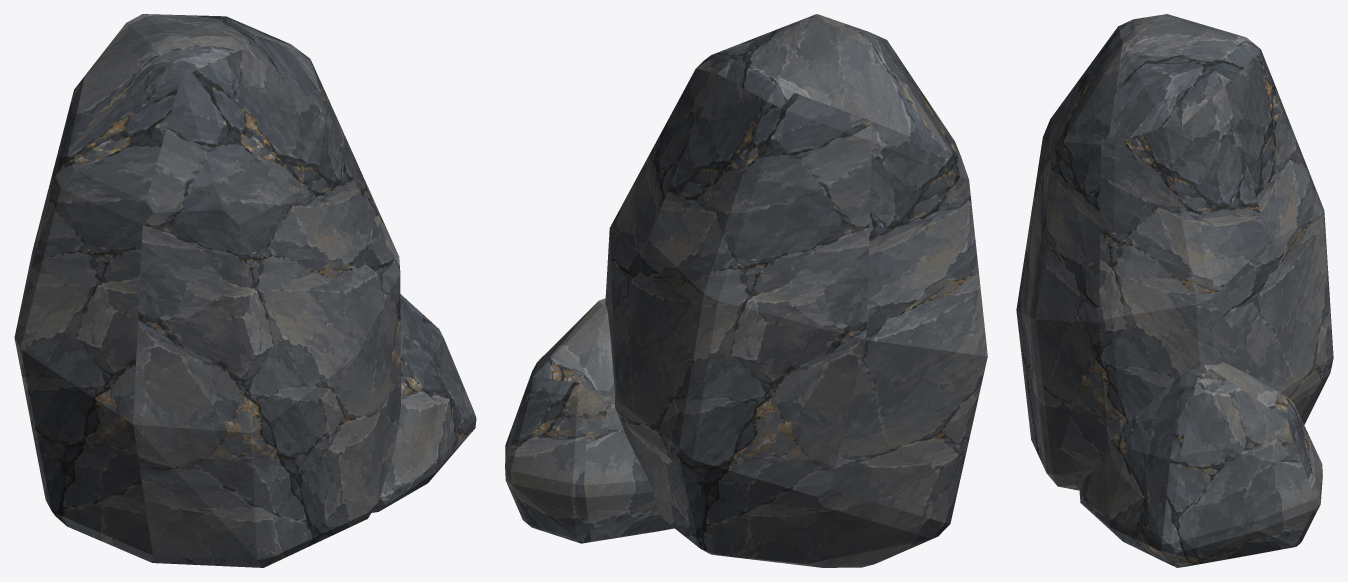
File: Cave_R02_JaggedBoulder.fbx
3 renders of one model, left to right at view 1: azimuth 30°, elevation 25°; view 2: azimuth 150°, elevation 25°; view 3: azimuth 270°, elevation 25°, orthographic. The views are drawn at different scales.
Parts seen in each view (by area): view 1: Cave_R02_JaggedBoulder_LOD0; view 2: Cave_R02_JaggedBoulder_LOD0; view 3: Cave_R02_JaggedBoulder_LOD0.
Boxes of the visible parts, bbox=[...] form: Cave_R02_JaggedBoulder_LOD0: bbox=[14, 14, 476, 567]; Cave_R02_JaggedBoulder_LOD0: bbox=[505, 14, 987, 567]; Cave_R02_JaggedBoulder_LOD0: bbox=[1016, 14, 1333, 567].
Size of what is drawn, in the model's own units: 1.82 by 1.96 by 1.27.
Materials: 1 (1 with a texture image).
